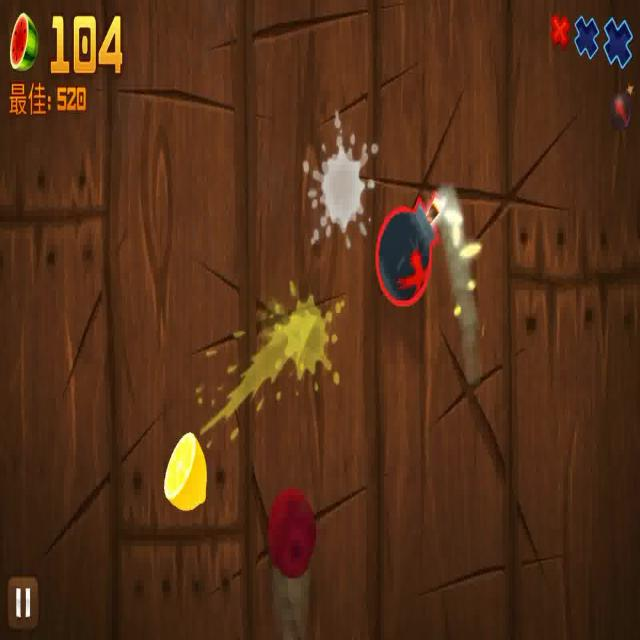bomb: (372, 176, 459, 310)
fruit: (263, 481, 317, 581), (159, 426, 209, 513)
